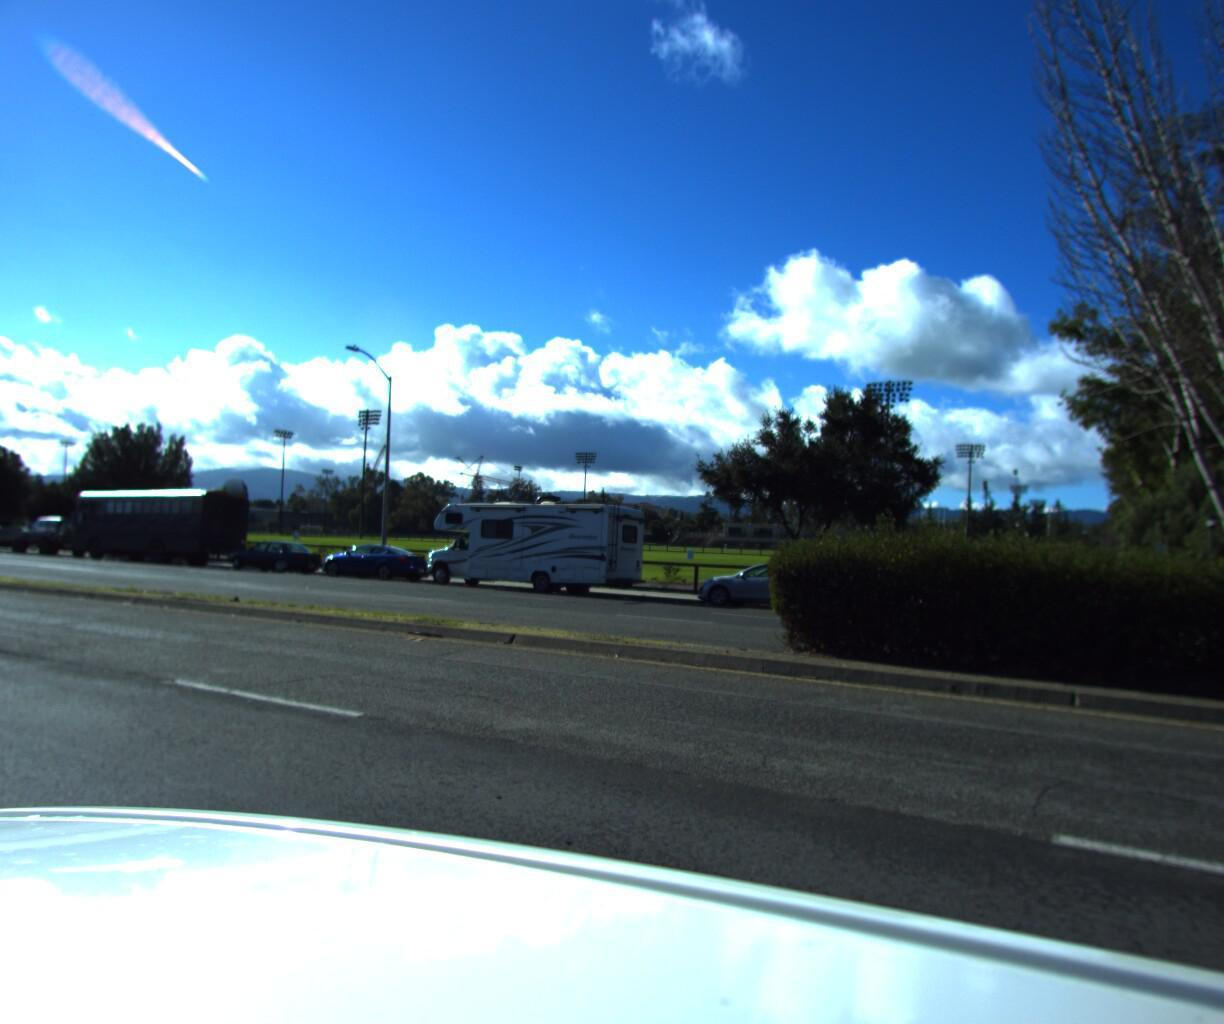bus: (61, 477, 255, 566)
car: (685, 554, 851, 613), (308, 534, 437, 581), (215, 531, 328, 571), (4, 509, 94, 555)
other_vehicle: (410, 485, 653, 598)
